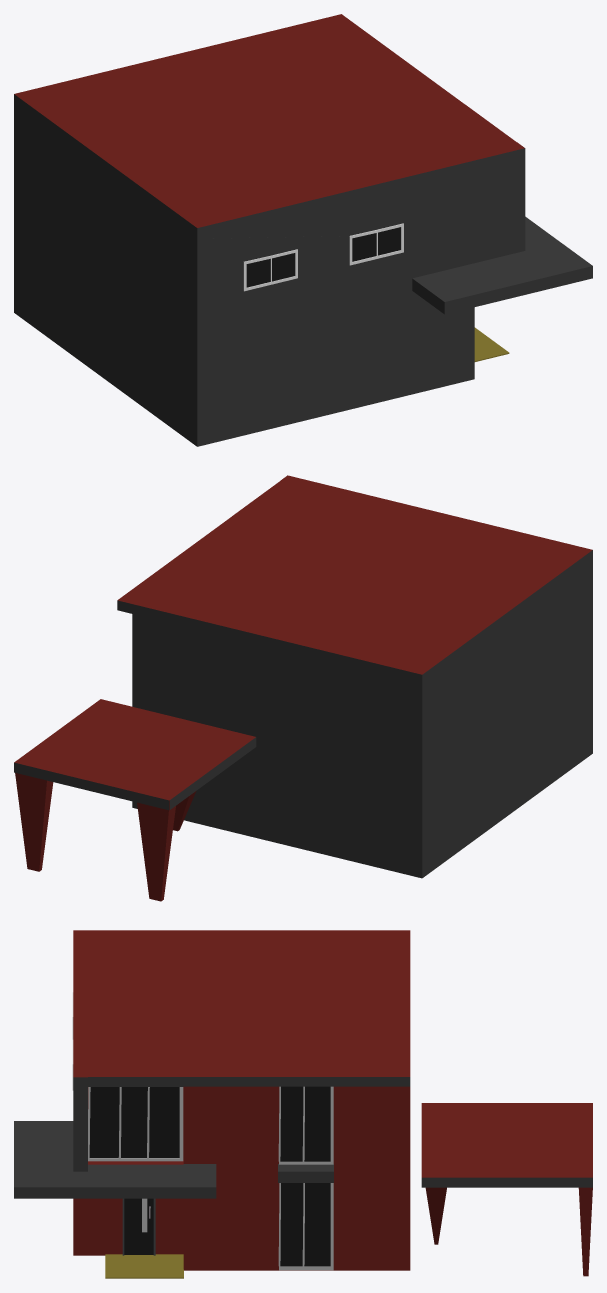
File: Building_House4_Red.fbx
3 renders of one model, top to bottom at view 1: azimuth 30°, elevation 25°; view 2: azimuth 150°, elevation 25°; view 3: azimuth 270°, elevation 25°, orthographic. The views are drawn at different scales.
Parts seen in each view (by area): view 1: Cube, Plane; view 2: Cube, Plane.001; view 3: Cube, Plane.001, Cube.002, Cube.004, Cube.003, Cube.001, Plane.
Part boxes in pixels (x1,y1,x2,y2): Cube: (14, 14, 592, 446); Plane: (474, 327, 509, 361); Cube: (117, 475, 592, 878); Plane.001: (14, 699, 256, 901); Cube: (14, 930, 410, 1270); Plane.001: (421, 1103, 592, 1276); Cube.002: (88, 1087, 183, 1161); Cube.004: (278, 1183, 333, 1270); Cube.003: (278, 1086, 333, 1164); Cube.001: (122, 1198, 155, 1255); Plane: (105, 1254, 183, 1278).
Size of the model in its own units: 1224 by 704 by 1839.
